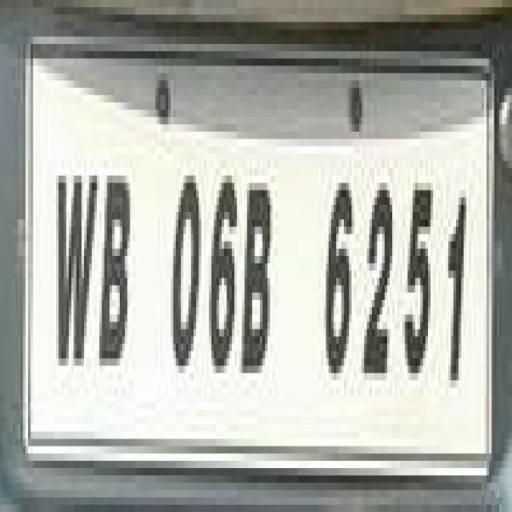number plate: (0, 51, 499, 468)
